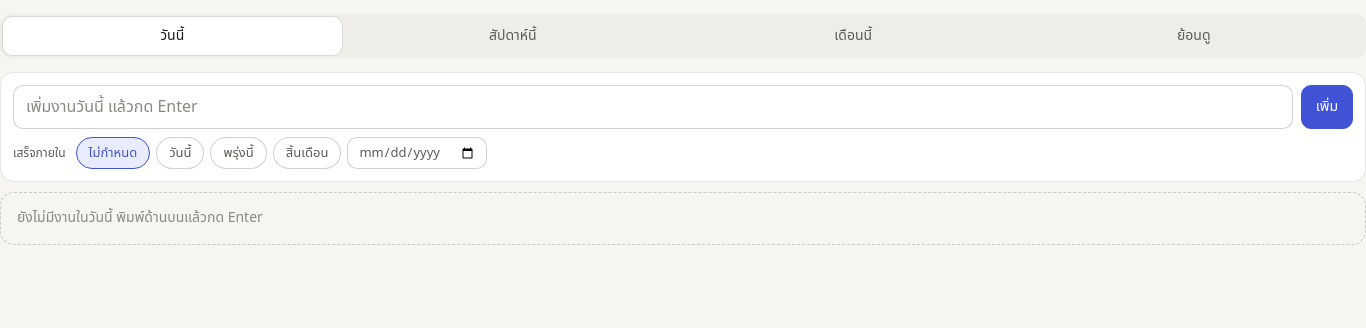
SimpleView › adds tasks with Enter and keeps the cursor in the box for the next one
Type "โทรหาลูกค้า" into the field labelled "เพิ่มงานวันนี้" at (653, 107), box x1=13 y1=85 x2=1293 y2=129
Then press Enter
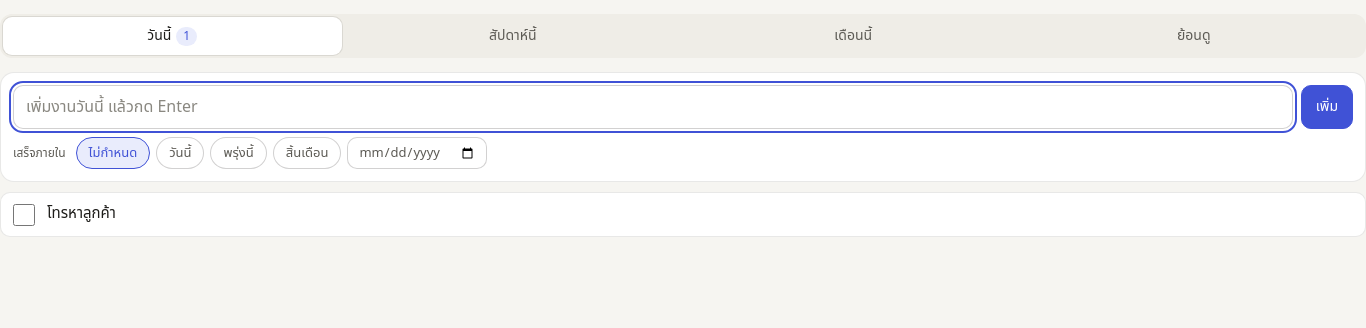
Click the radio button labelled "สิ้นเดือน" at (307, 153), box x1=273 y1=137 x2=341 y2=169
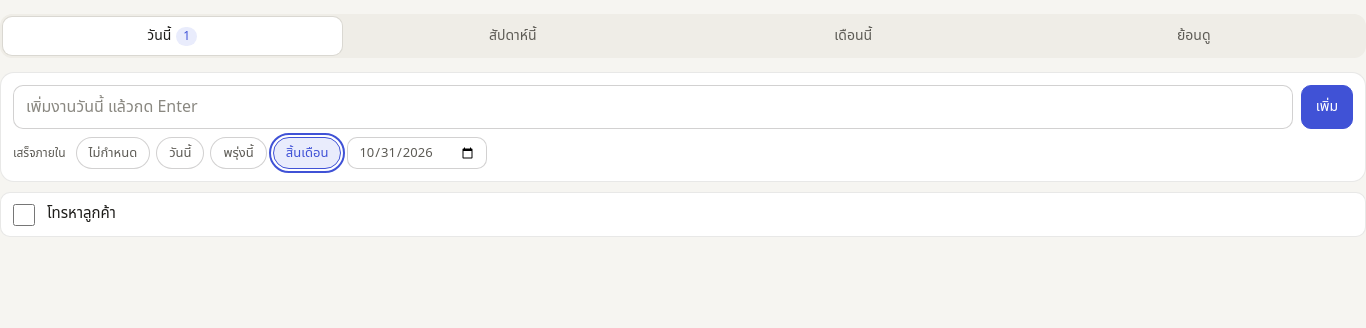
Type "ส่งรายงาน" into the field labelled "เพิ่มงานวันนี้" at (653, 107), box x1=13 y1=85 x2=1293 y2=129
Then press Enter
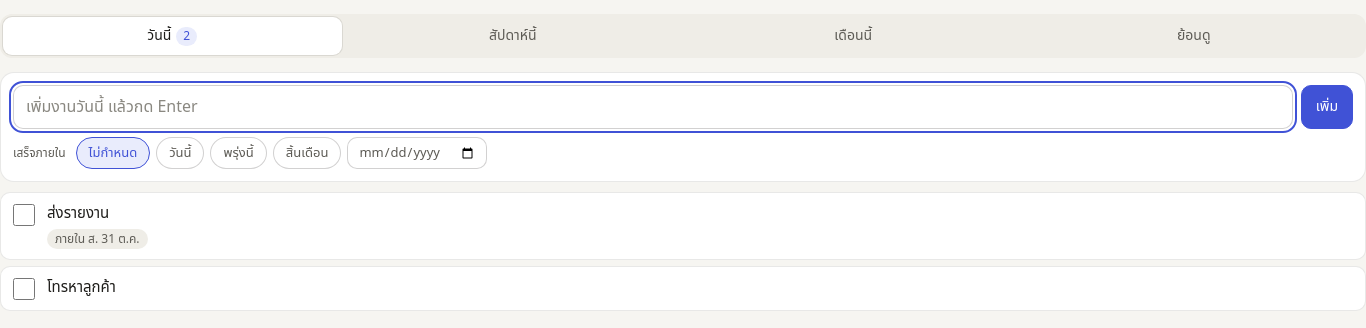
Expected: the list item "ส่งรายงาน ภายใน ส. 31 ต.ค." is shown, x1=0 y1=192 x2=1365 y2=260
Expected: the link "วันนี้ 2" is shown, x1=3 y1=17 x2=342 y2=55
